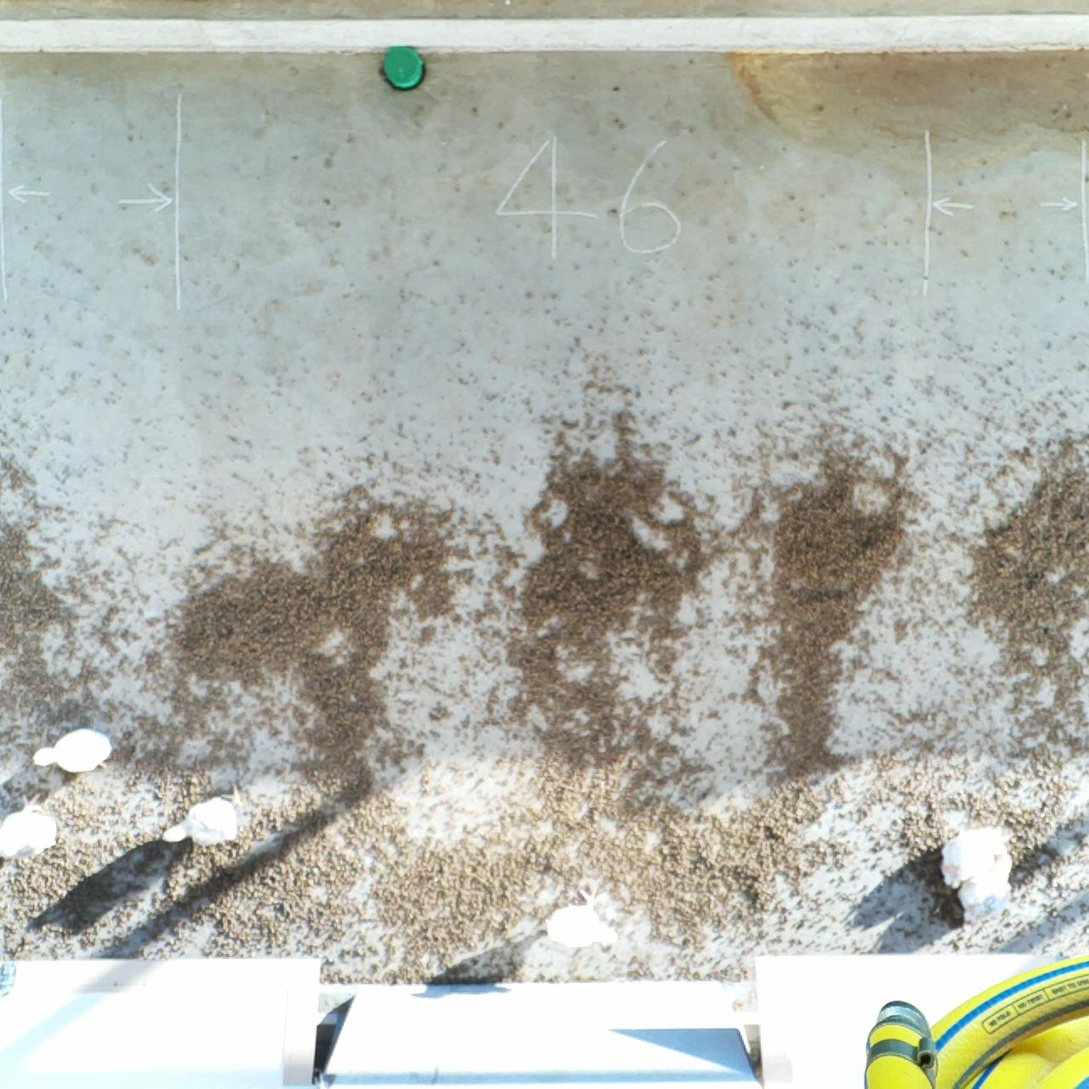chicken: (160, 780, 255, 852), (542, 882, 619, 955), (938, 822, 1016, 891), (0, 791, 64, 862), (32, 725, 117, 778), (958, 854, 1016, 924)
